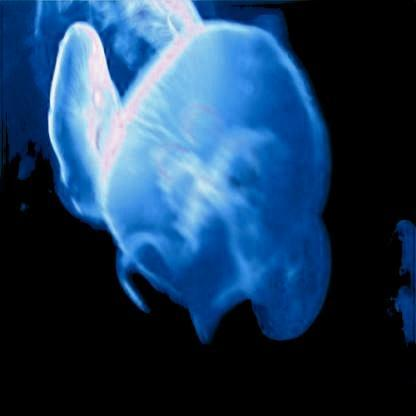Dressed: (251, 216, 333, 348), (376, 210, 414, 400)
Speckle: (109, 21, 333, 345), (33, 5, 209, 131), (48, 22, 122, 224)
